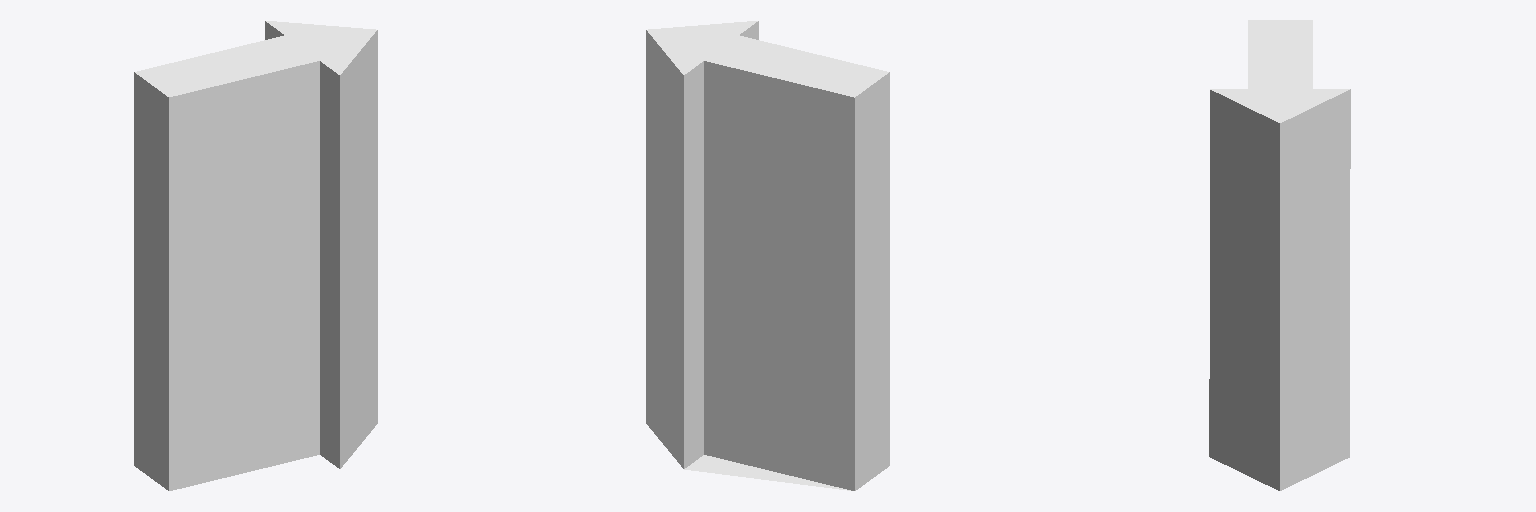
The robot description file, URDF, robot "Arrow_cube_cap":
<?xml version="1.0" ?>
<robot name="Arrow_cube_cap">
  <link name="baseLink">
    <contact>
    	<friction_anchor/>
    	   <lateral_friction value="5.0"/>
    </contact>
    <inertial>
      <origin rpy="0 0 0" xyz="0 0 0"/>
       <!-- mass controls penetration -->
       <!-- <mass value=".5"/> -->
       <inertia ixx="1e-4" ixy="0" ixz="0" iyy="1e-4" iyz="0" izz="1e-4"/>
    </inertial>
    <visual>
      <origin rpy="0 0 0" xyz="0 0 0"/>
      <geometry>
        <mesh filename="Arrow_cube_cap_crop.obj" scale="0.6 0.6 0.6"/>
      </geometry>
       <material name="white">
        <color rgba="1 1 1 1"/>
      </material>
    </visual>
    <collision>
      <origin rpy="0 0 0" xyz="0 0 0"/>
      <geometry>
        <mesh filename="Arrow_cube_cap_crop.obj" scale="0.6 0.6 0.6"/>
      </geometry>
      <sdf resolution="300"/>
    </collision>
  </link>
</robot>

--- Render facts (derived) ---
The picture shows the robot from 3 angles, left to right: view 1: azimuth 30°, elevation 25°; view 2: azimuth 150°, elevation 25°; view 3: azimuth 270°, elevation 25°; orthographic projection.
Model Arrow_cube_cap with 1 links and 0 joints (none), rooted at baseLink, posed all joints at 0.
Visible links, largest first — view 1: baseLink; view 2: baseLink; view 3: baseLink.
Boxes of the visible links, bbox=[...] form: baseLink: bbox=[134, 21, 377, 490]; baseLink: bbox=[646, 21, 889, 490]; baseLink: bbox=[1209, 20, 1350, 490].
Bounding box of the posed robot: 0.036 × 0.0208 × 0.0599 m (x, y, z).
Meshes: 1 distinct files referenced, 1 mesh visuals loaded (1 OBJ).